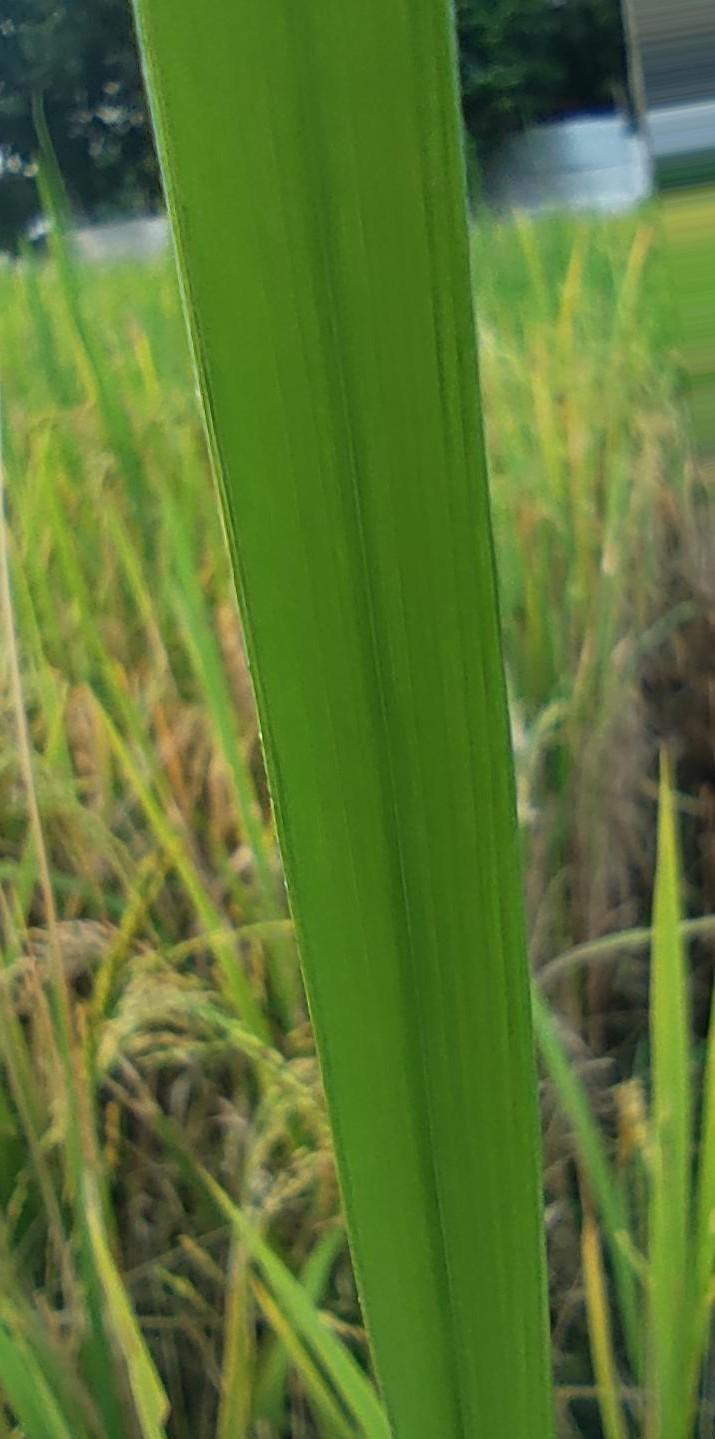Healthy: (134, 0, 556, 1438)
